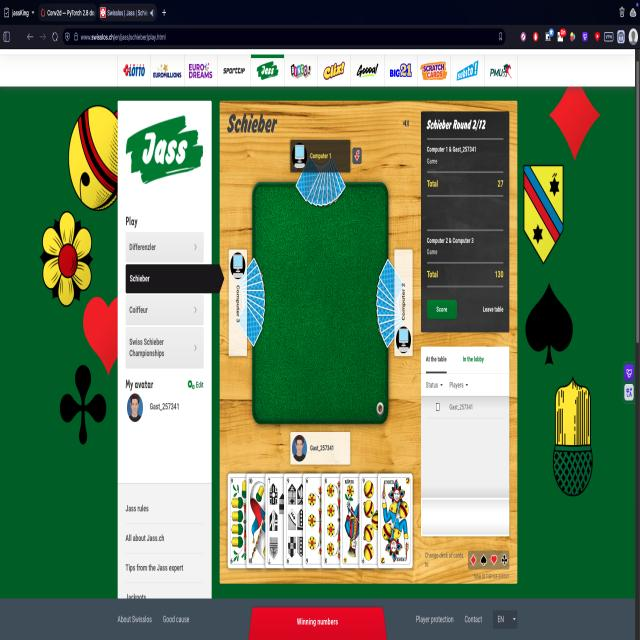ei10: (247, 473, 281, 566)
ei9: (229, 475, 260, 569)
ro6: (305, 473, 338, 568)
ro8: (322, 473, 354, 570)
rok: (342, 473, 373, 569)
se9: (359, 472, 392, 572)
seu: (379, 473, 413, 572)
si10: (267, 472, 298, 568)
si9: (285, 472, 316, 570)
